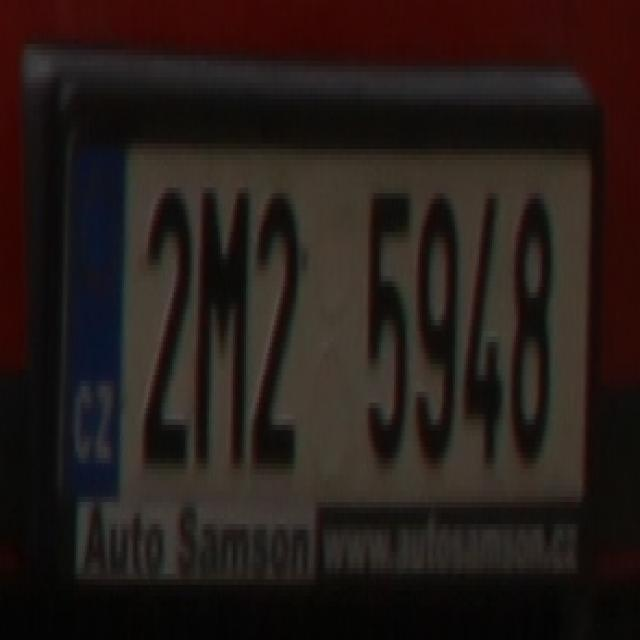2: (140, 182, 190, 469), (252, 182, 300, 469)
4: (462, 176, 507, 474)
5: (362, 182, 409, 469)
8: (510, 176, 552, 474)
9: (412, 187, 459, 463)
M: (196, 182, 248, 469)
